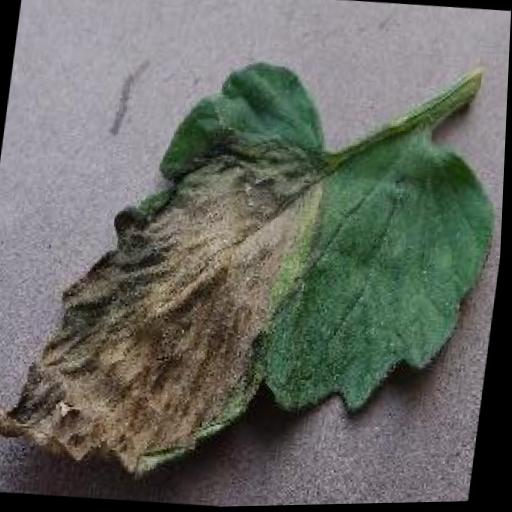Late Blight: (0, 37, 510, 506)
